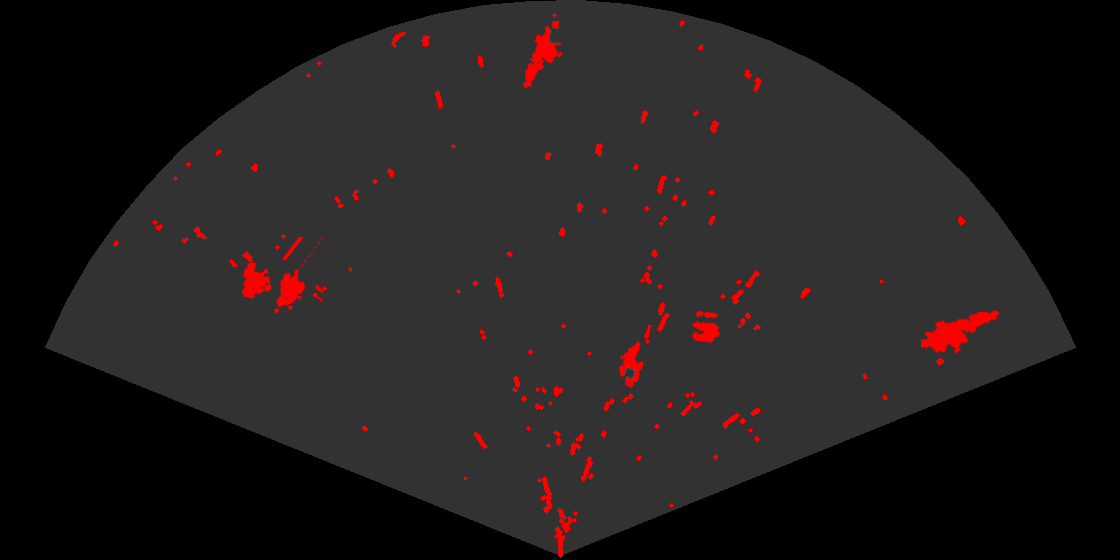AUV: (617, 340, 645, 390)
ball: (690, 309, 721, 344)
cage: (240, 237, 323, 315)
frogman: (921, 309, 1000, 356), (522, 21, 564, 90)
